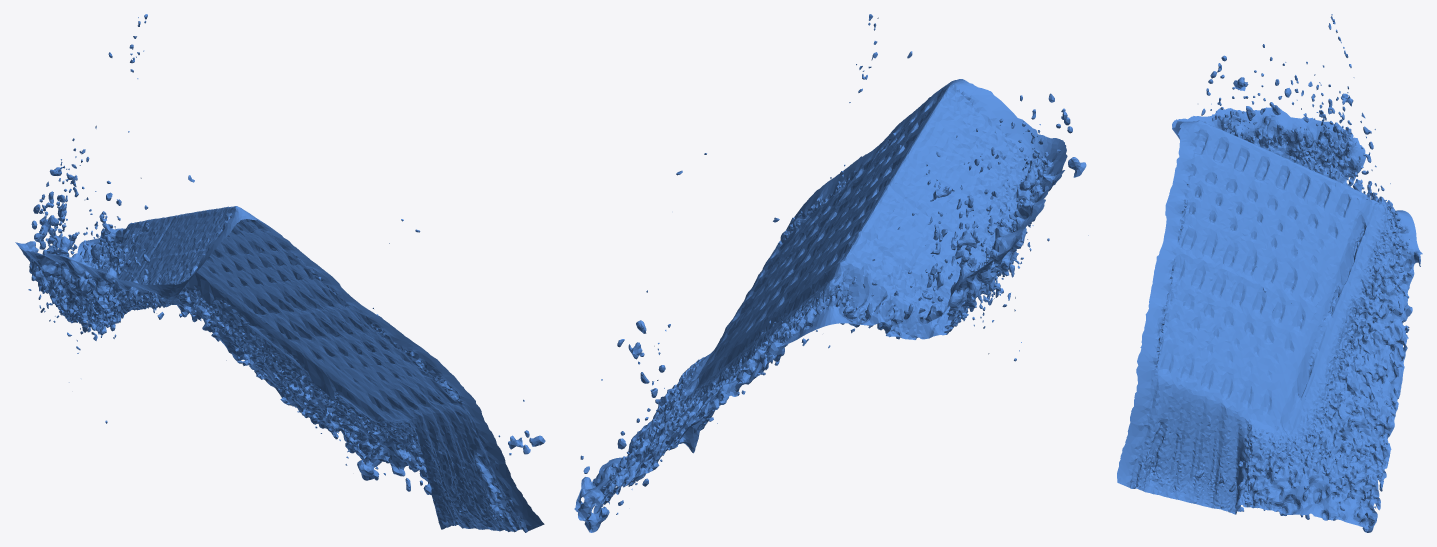
File: building 1.fbx
3 renders of one model, left to right at view 1: azimuth 30°, elevation 25°; view 2: azimuth 150°, elevation 25°; view 3: azimuth 270°, elevation 25°, orthographic. The views are drawn at different scales.
Visible parts, largest first — view 1: Model; view 2: Model; view 3: Model.
Boxes of the visible parts, x1,y1,x2,y2 form: Model: [15, 14, 545, 532]; Model: [574, 14, 1088, 532]; Model: [1117, 14, 1422, 532].
Size of the model in its own units: 31.02 by 22.69 by 34.64.
